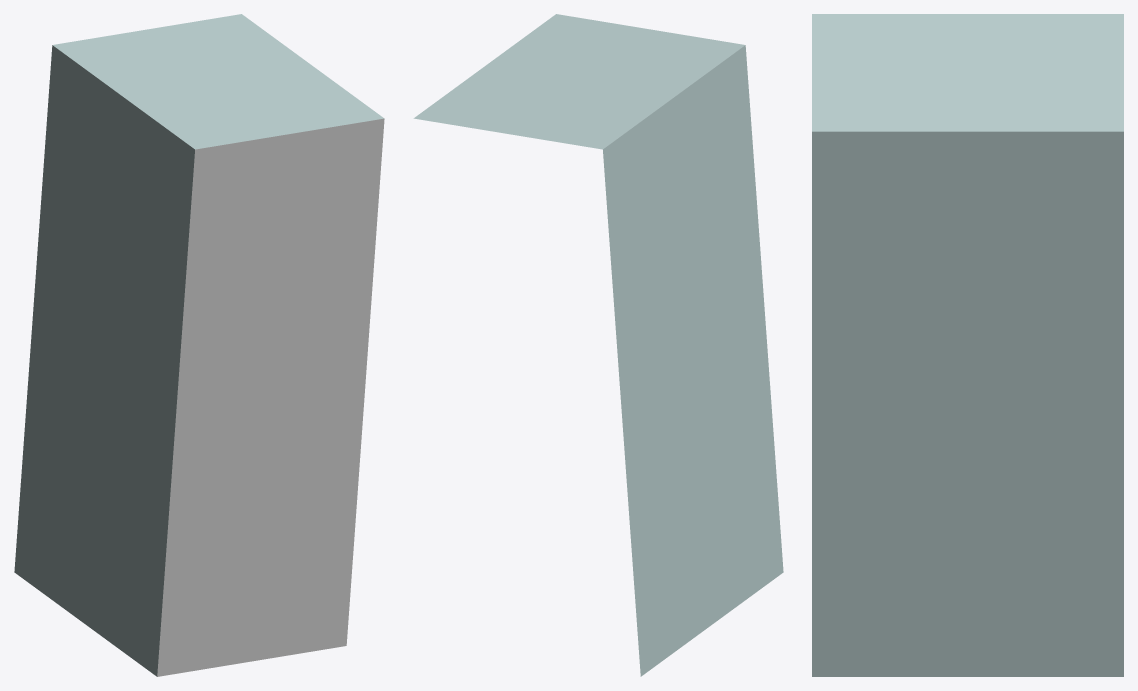
3 views of the same model, side by side, from view 1: azimuth 30°, elevation 25°; view 2: azimuth 150°, elevation 25°; view 3: azimuth 270°, elevation 25° (orthographic). The views are drawn at different scales.
Parts seen in each view (by area): view 1: 0_1_2_2_0_3_0_0_0; view 2: 0_1_2_2_0_3_0_0_0; view 3: 0_1_2_2_0_3_0_0_0.
Part boxes in pixels (box(x1,y1,x2,y2)): 0_1_2_2_0_3_0_0_0: box(14, 14, 384, 676); 0_1_2_2_0_3_0_0_0: box(413, 14, 783, 676); 0_1_2_2_0_3_0_0_0: box(812, 14, 1123, 676).
Size of the model in its own units: 2.76 by 6.18 by 3.
